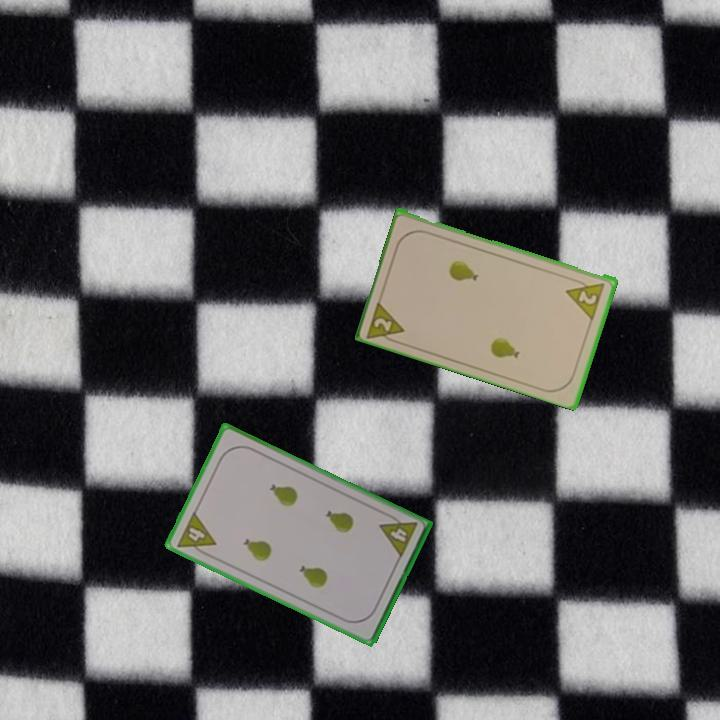2p: (363, 295, 408, 347), (575, 286, 600, 307)
4p: (173, 508, 219, 560), (376, 510, 420, 561)
